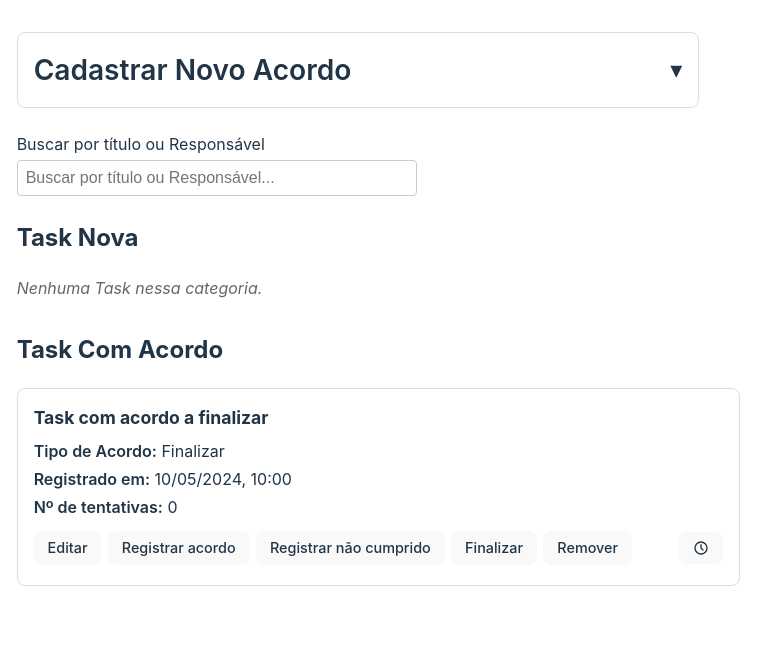
Test: ListaDeAcordosPage › quando o recarregamento após uma operação de Acordo já aceita falha, exibe erro e "Tentar novamente" recupera sem refazer a operação (Requisitos 10.3, 10.10)
(page scrolled)
Expected: the heading "Task com acordo a finalizar" is shown, [34,407,268,428]
What coordinates should you click on to do the following:
click the button with test id "task-card-finalizar"
I would click on:
 (494, 548)
Its box is [451,531,537,565].
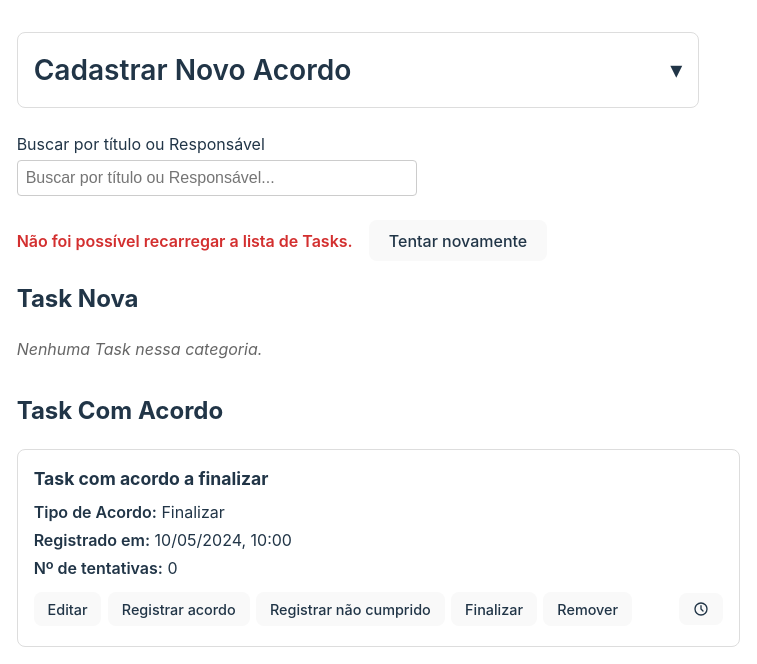
Expected: the heading "Task com acordo a finalizar" is shown, [34,468,268,489]
Expected: the message reads "Não foi possível recarregar a lista de Tasks.", [17,231,353,251]
What coordinates should you click on to do the following:
click the button with test id "lista-de-acordos-page-tentar-novamente"
I would click on:
 (458, 241)
Its box is [369,220,547,261].
(page scrolled)
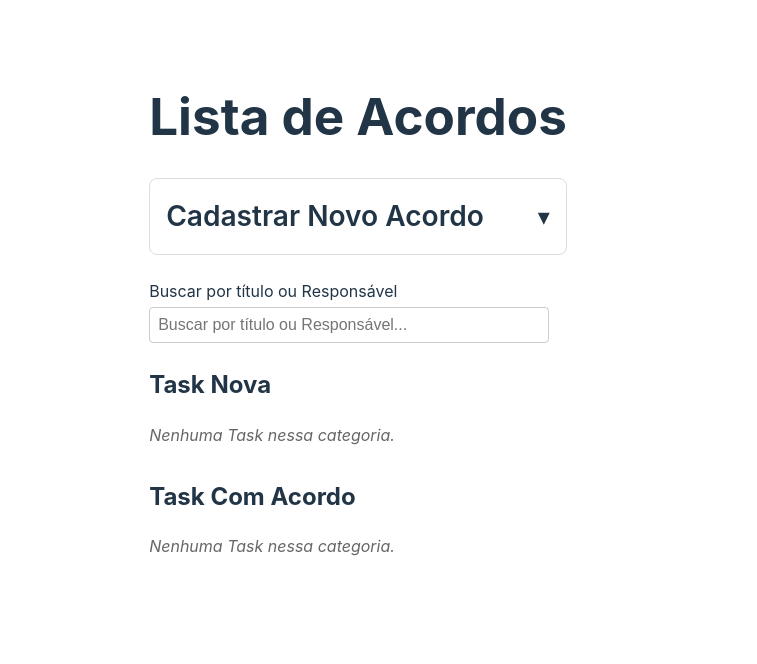
Expected: the element with test id "grupo-task-com-acordo" is shown, [149,482,395,556]
Expected: the message "Não foi possível recarregar a lista de Tasks." is gone
Expected: the button "Task com acordo a finalizar" is gone
